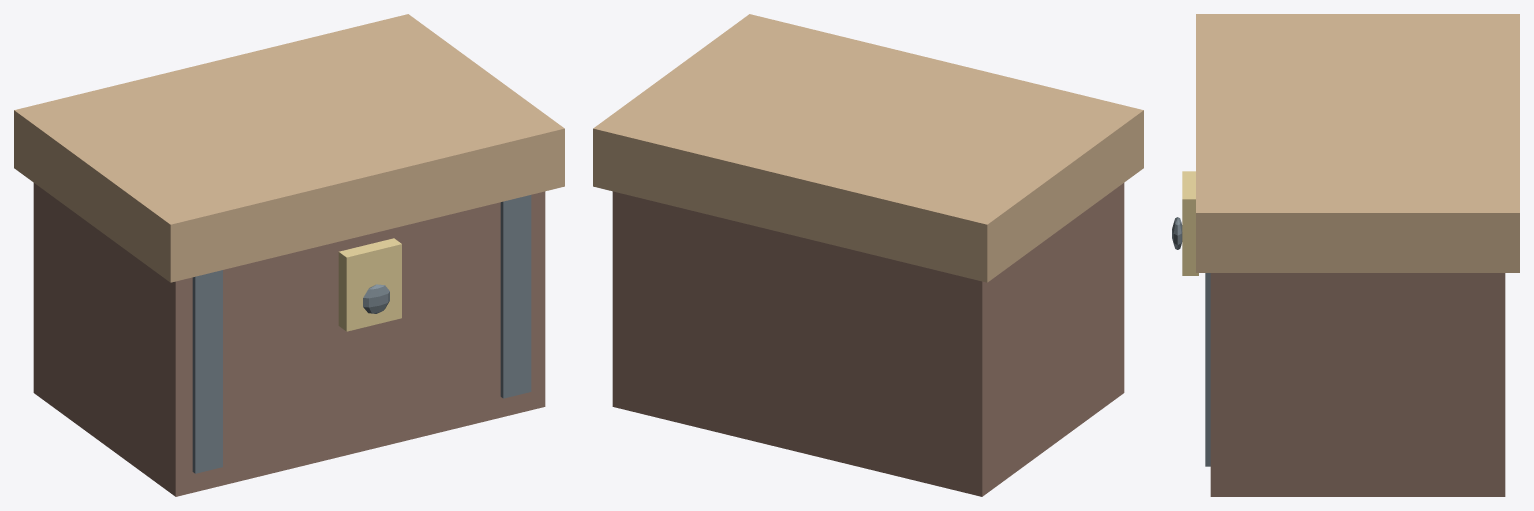
File: cofre.glb
3 renders of one model, left to right at view 1: azimuth 30°, elevation 25°; view 2: azimuth 150°, elevation 25°; view 3: azimuth 270°, elevation 25°, orthographic. The views are drawn at different scales.
Parts seen in each view (by area): view 1: cofre; view 2: cofre; view 3: cofre.
Boxes of the visible parts, x1=… form: cofre: x1=14, y1=14, x2=564, y2=496; cofre: x1=593, y1=14, x2=1143, y2=496; cofre: x1=1172, y1=14, x2=1519, y2=496.
Bounding box in the file's own units: 1.28 × 0.87 × 0.9452.
